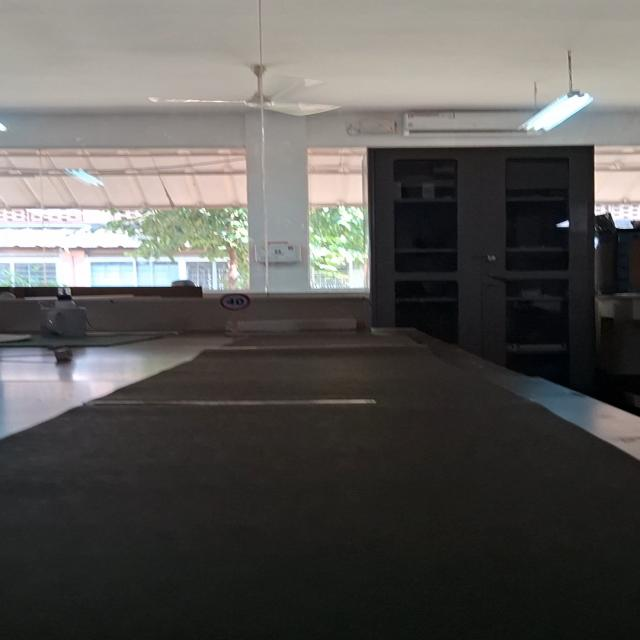Speed40: (218, 292, 252, 312)
